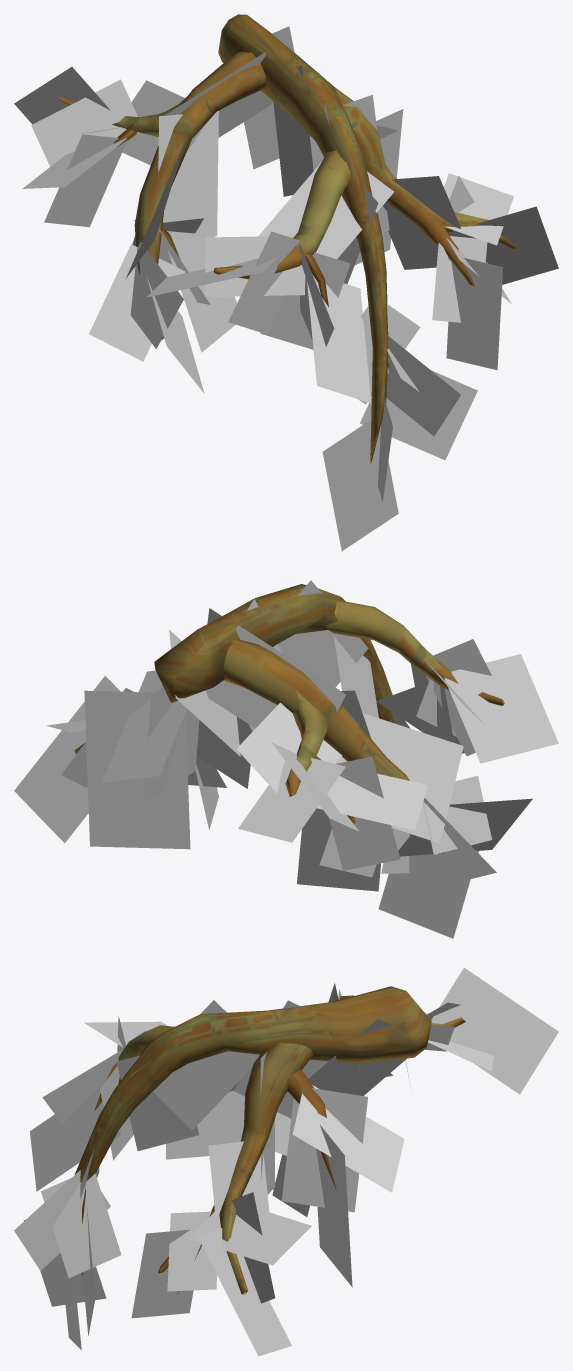
File: env_forest_gianttree_root01_lod1.fbx
3 renders of one model, top to bottom at view 1: azimuth 30°, elevation 25°; view 2: azimuth 150°, elevation 25°; view 3: azimuth 270°, elevation 25°, orthographic. The views are drawn at different scales.
Parts seen in each view (by area): view 1: root01_lod1; view 2: root01_lod1; view 3: root01_lod1.
Part boxes in pixels (box(x1,y1,x2,y2)): root01_lod1: box(14, 14, 558, 551); root01_lod1: box(14, 580, 558, 938); root01_lod1: box(14, 967, 558, 1356).
Size of the model in its own units: 49.2 by 40.24 by 51.94.
